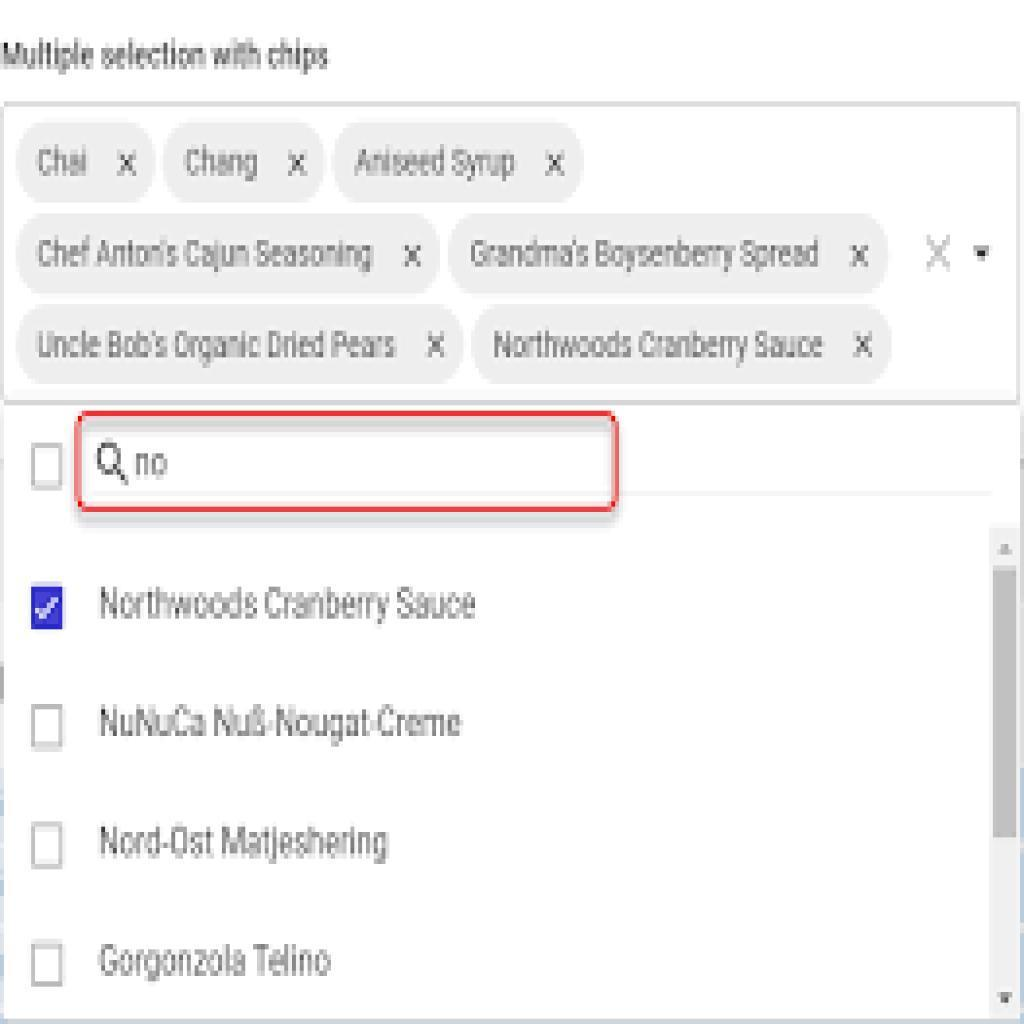button: (449, 212, 891, 296), (14, 207, 440, 293), (17, 301, 465, 382), (471, 302, 894, 385), (334, 122, 583, 204), (169, 123, 319, 206), (23, 122, 151, 200)
checkbox: (31, 444, 62, 492), (34, 585, 63, 631), (32, 705, 63, 748), (34, 826, 63, 871), (34, 944, 63, 988)
input: (87, 422, 615, 510)
